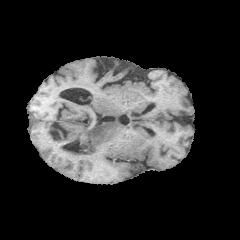glioma: (59, 121, 123, 157)
